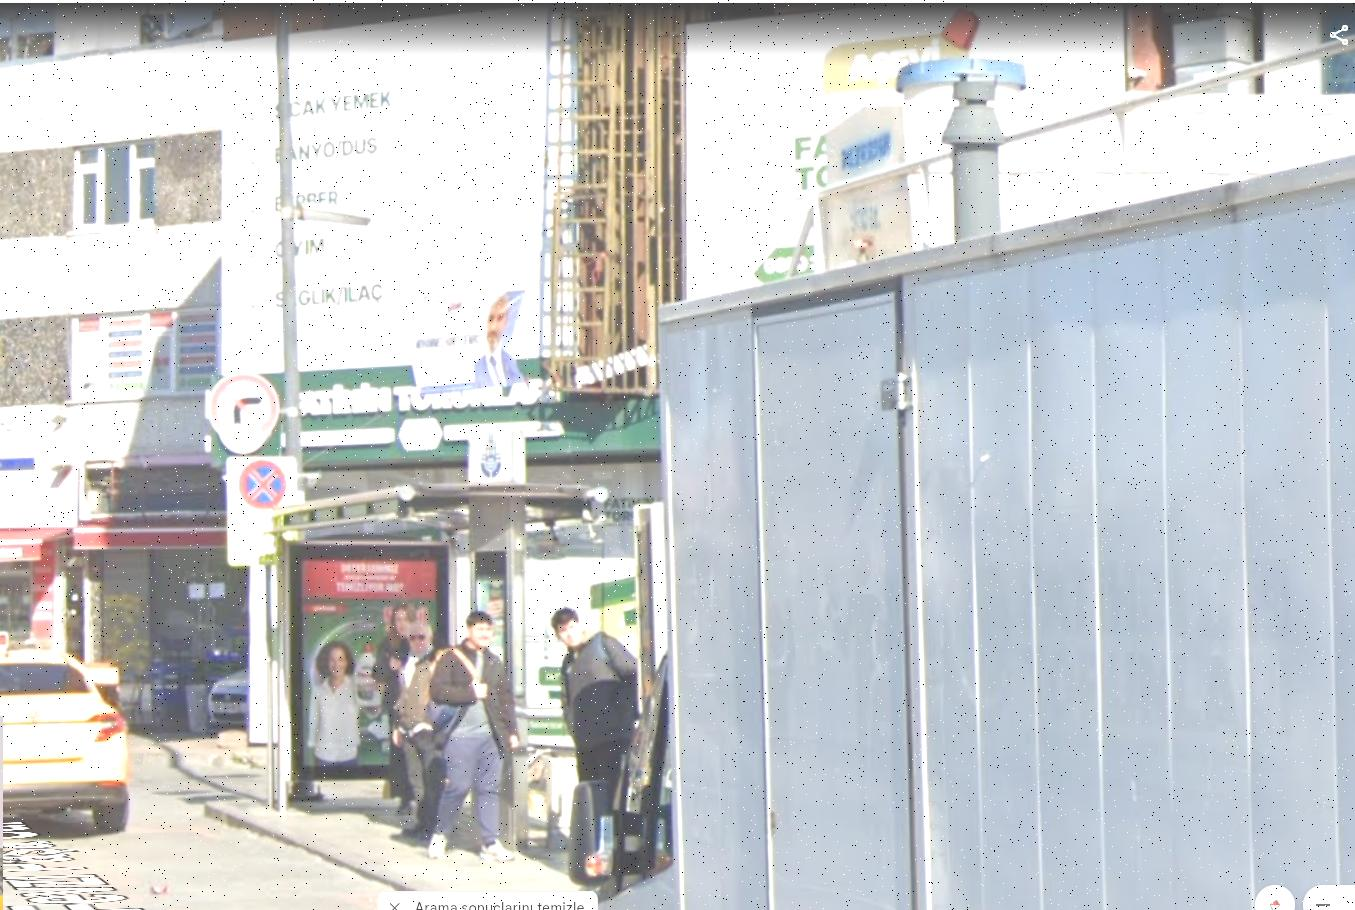rightturnsareforbidden: (204, 367, 289, 449)
